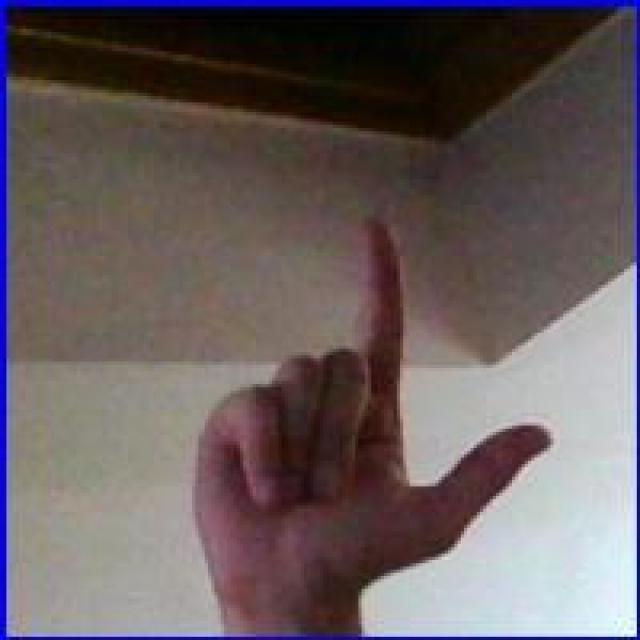L: (182, 208, 560, 598)
